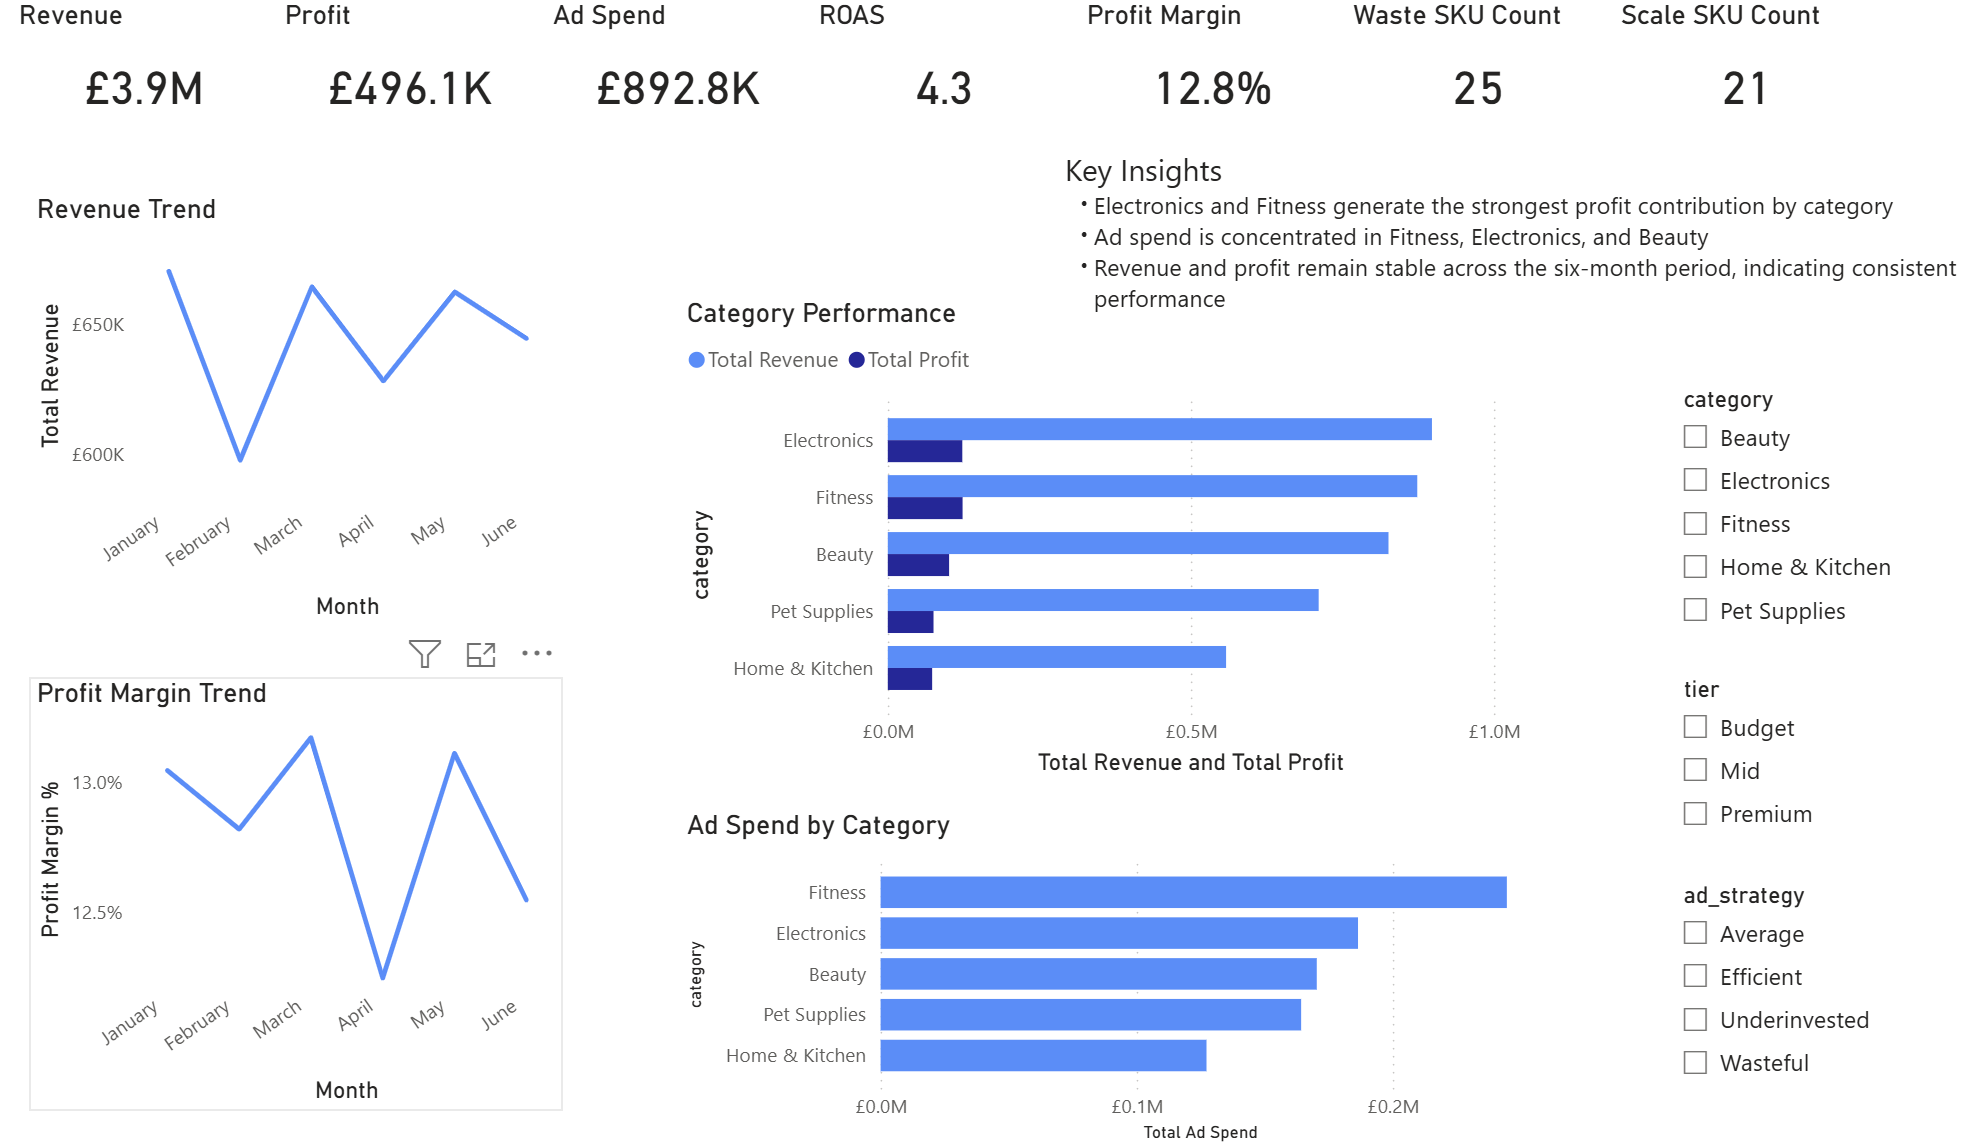

The page's visual inventory and layout, read from the dashboard file:
{"tool":"powerbi","page":{"name":"Executive Summary","canvas":[1280,720],"ordinal":0},"visuals":[{"type":"card","title":"Revenue","fields":{"Values":["daily_performance.Total Revenue"]},"box":[10.7,0,166.9,88.8],"z":0},{"type":"card","title":"Profit","fields":{"Values":["daily_performance.Total Profit"]},"box":[177.6,0,166.9,88.8],"z":1000},{"type":"card","title":"Ad Spend","fields":{"Values":["daily_performance.Total Ad Spend"]},"box":[344.5,0,166.9,88.8],"z":2000},{"type":"card","title":"ROAS","fields":{"Values":["daily_performance.ROAS KPI"]},"box":[511.4,0,166.9,88.8],"z":3000},{"type":"card","title":"Profit Margin","fields":{"Values":["daily_performance.Profit Margin %"]},"box":[678.3,0,166.9,88.8],"z":4000},{"type":"card","title":"Waste SKU Count","fields":{"Values":["daily_performance.Waste SKU Count"]},"box":[845.2,0,166.9,88.8],"z":5000},{"type":"card","title":"Scale SKU Count","fields":{"Values":["daily_performance.Scale SKU Count"]},"box":[1012.1,0,166.9,88.8],"z":6000},{"type":"lineChart","title":"Revenue Trend","fields":{"Category":["daily_performance.date.Variation.Date Hierarchy.Month"],"Y":["daily_performance.Total Revenue"]},"box":[23,121,333.8,271],"z":7000},{"type":"lineChart","title":"Profit Margin Trend","fields":{"Category":["daily_performance.date.Variation.Date Hierarchy.Month"],"Y":["daily_performance.Profit Margin %"]},"box":[23,424.1,333.8,271],"z":8000},{"type":"clusteredBarChart","title":"Category Performance","fields":{"Category":["products.category"],"Y":["daily_performance.Total Revenue","daily_performance.Total Profit"]},"box":[428.7,186.8,531.3,303.2],"z":9000},{"type":"clusteredBarChart","title":"Ad Spend by Category","fields":{"Category":["products.category"],"Y":["daily_performance.Total Ad Spend"]},"box":[428.7,506.8,548.1,212.8],"z":10000},{"type":"slicer","fields":{"Values":["products.category"]},"box":[1044.1,235.9,195.1,181],"z":11000},{"type":"slicer","fields":{"Values":["products.tier"]},"box":[1044.1,416.9,195.1,130],"z":12000},{"type":"slicer","fields":{"Values":["products.ad_strategy"]},"box":[1044.2,546.6,194.4,148.5],"z":13000},{"type":"textbox","box":[665.5,89.2,614.5,114.7],"z":14000}]}

Visuals, with their boxes on the page's 1280x720 design canvas (x1, y1, x2, y2). These are canvas units, not pixel positions in the 1973x1147 screenshot, which may show the page scaled, cropped or inside an application window:
"Revenue" card: bbox=[11, 0, 178, 89]
"Profit" card: bbox=[178, 0, 344, 89]
"Ad Spend" card: bbox=[344, 0, 511, 89]
"ROAS" card: bbox=[511, 0, 678, 89]
"Profit Margin" card: bbox=[678, 0, 845, 89]
"Waste SKU Count" card: bbox=[845, 0, 1012, 89]
"Scale SKU Count" card: bbox=[1012, 0, 1179, 89]
"Revenue Trend" lineChart: bbox=[23, 121, 357, 392]
"Profit Margin Trend" lineChart: bbox=[23, 424, 357, 695]
"Category Performance" clusteredBarChart: bbox=[429, 187, 960, 490]
"Ad Spend by Category" clusteredBarChart: bbox=[429, 507, 977, 720]
slicer - products.category: bbox=[1044, 236, 1239, 417]
slicer - products.tier: bbox=[1044, 417, 1239, 547]
slicer - products.ad_strategy: bbox=[1044, 547, 1239, 695]
textbox: bbox=[666, 89, 1280, 204]
